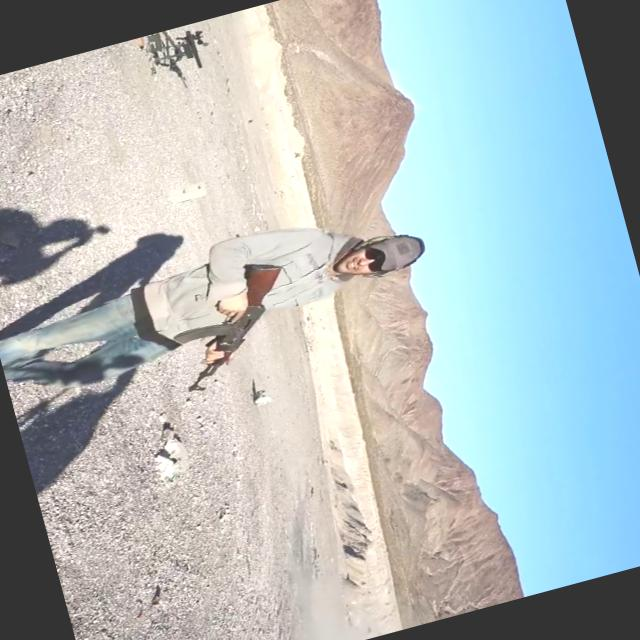long weapon: (143, 248, 320, 405), (147, 21, 220, 86)
